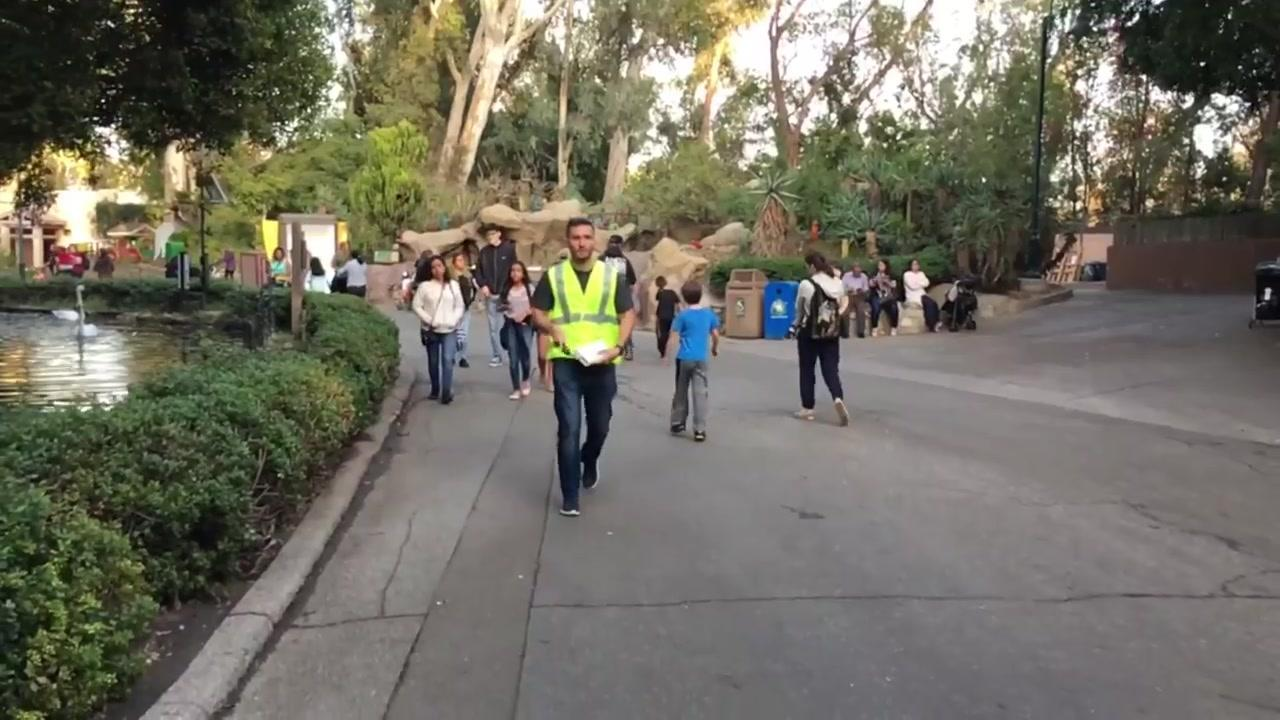vest: (539, 256, 624, 368)
